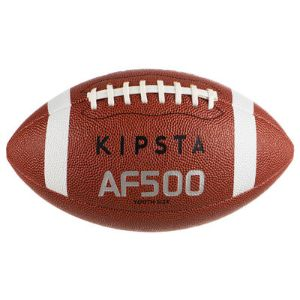futbol americano: (7, 69, 294, 232)
